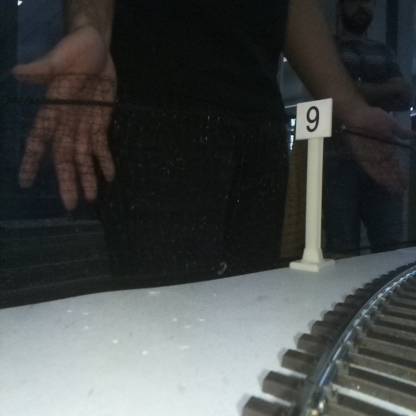white-info-9: (296, 99, 331, 269)
